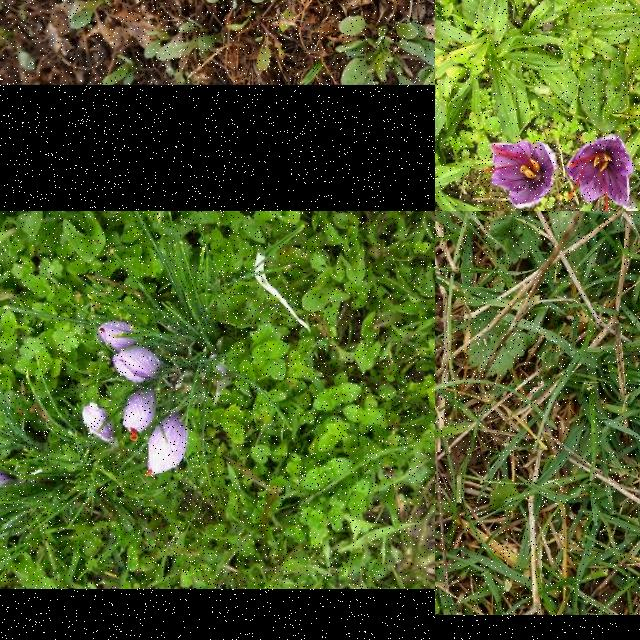flower: (567, 134, 635, 211), (487, 142, 555, 208), (147, 414, 187, 481), (122, 388, 158, 442), (111, 346, 162, 384), (99, 321, 139, 351), (84, 403, 114, 441), (0, 459, 22, 486)
